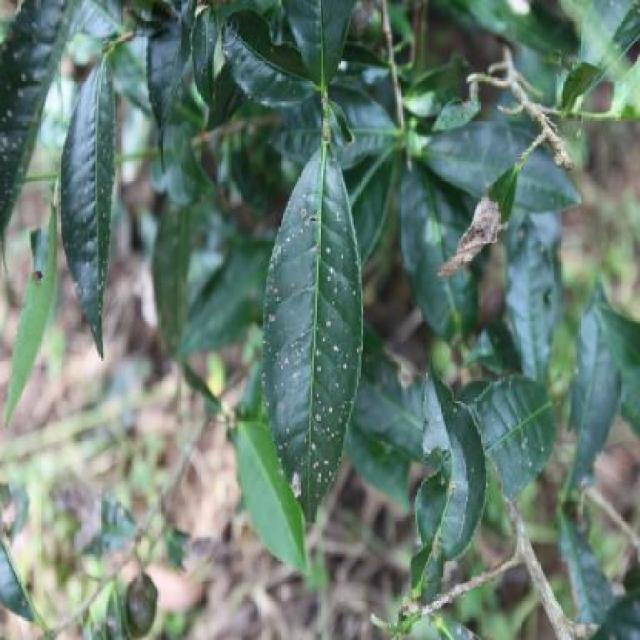Leaf rust of tea: (257, 155, 366, 528)
